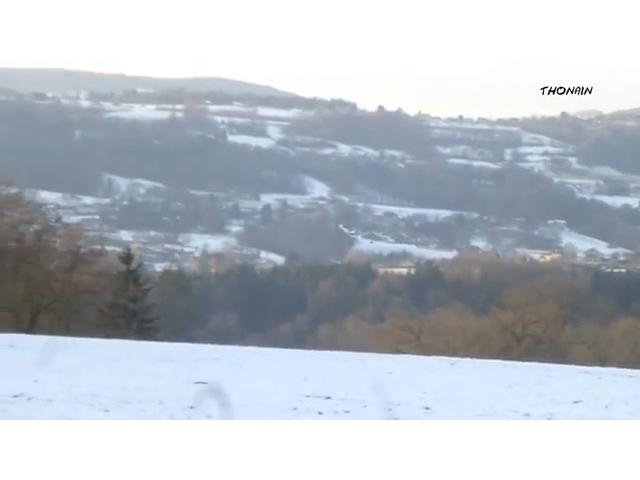Anti-Drone: (339, 224, 367, 244)
